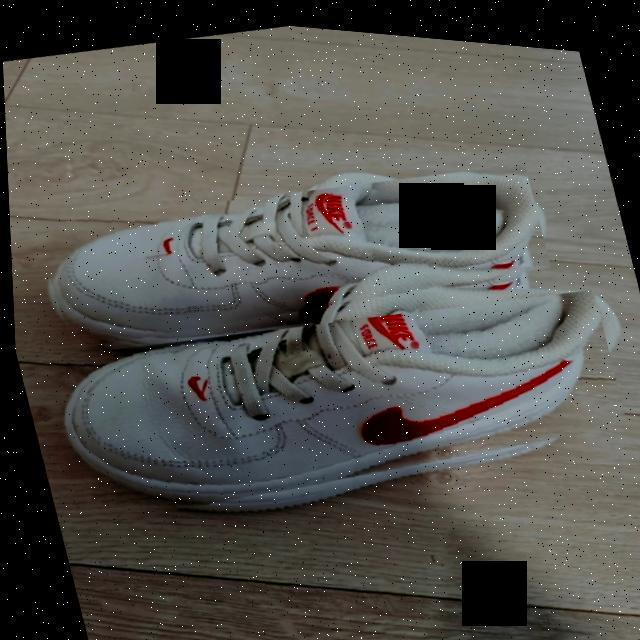shoe: (32, 239, 636, 565), (27, 119, 558, 384)
